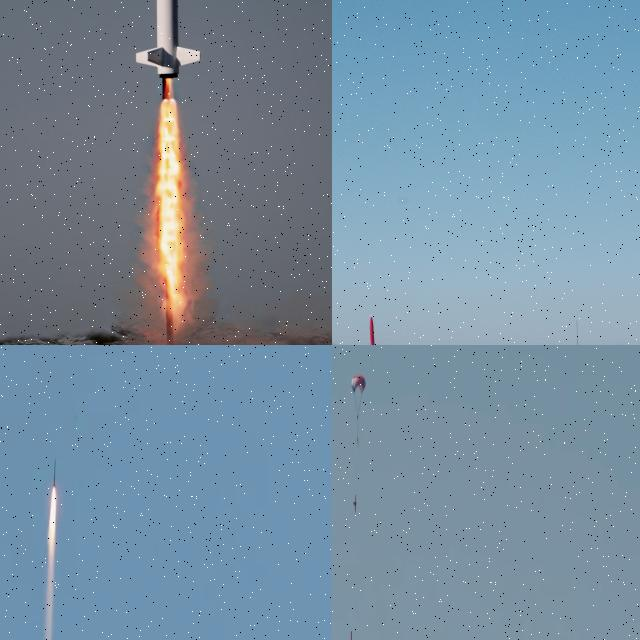Rocket: (137, 0, 205, 90), (366, 313, 389, 345), (52, 458, 56, 490), (349, 631, 352, 640)
